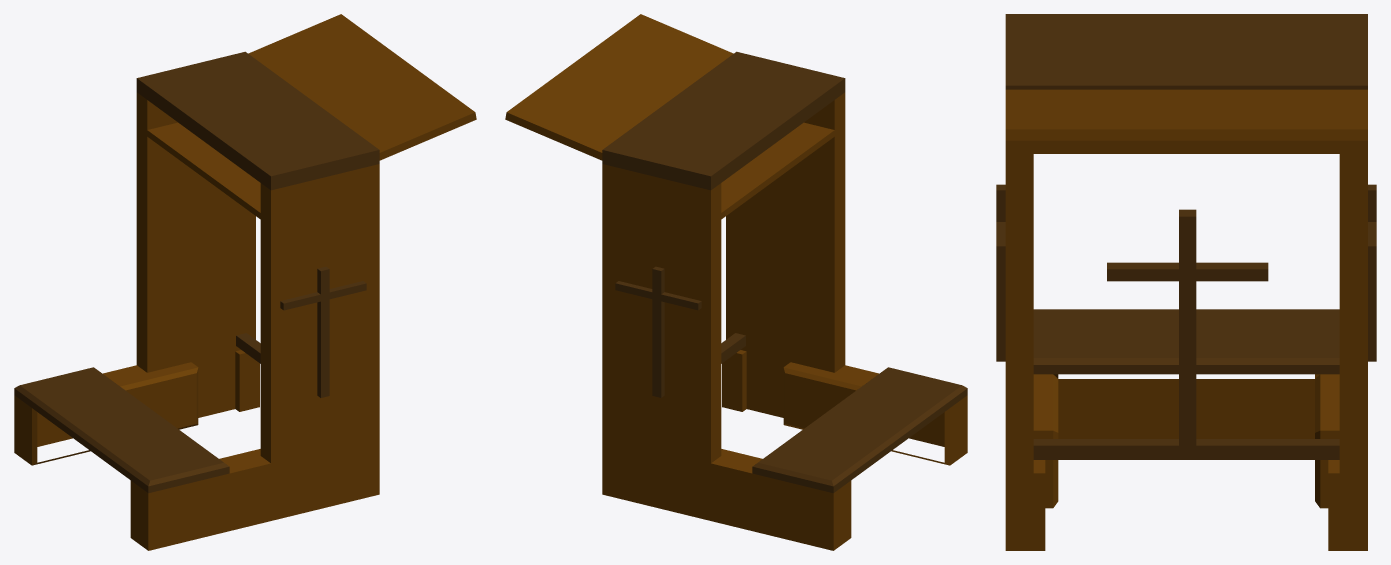
The model's file is AtrilEscenario3.fbx.
The picture shows the model from 3 angles, left to right: view 1: azimuth 30°, elevation 25°; view 2: azimuth 150°, elevation 25°; view 3: azimuth 270°, elevation 25°; orthographic projection. The views are drawn at different scales.
Visible parts, largest first — view 1: Box001; view 2: Box001; view 3: Box001.
Part boxes in pixels (x1,y1,x2,y2): Box001: (14,14,476,550); Box001: (505,14,967,550); Box001: (996,14,1376,550).
Size of the model in its own units: 89.62 by 93.65 by 66.64.
